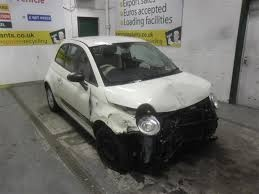Dent: (142, 81, 212, 109), (84, 91, 106, 117)
Smashed: (114, 97, 219, 167)
